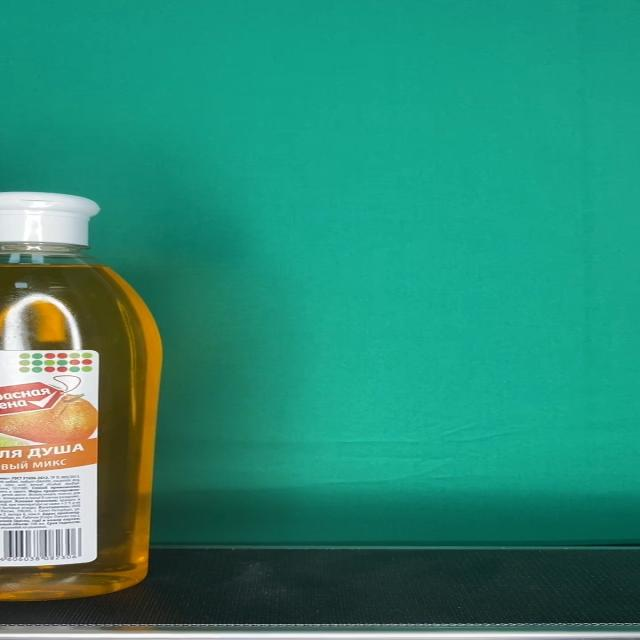Bottle: (0, 191, 167, 603)
